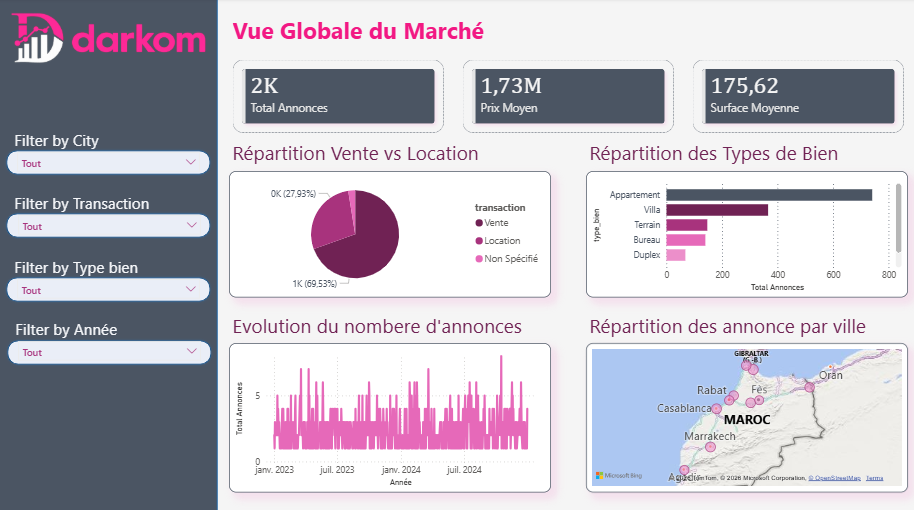

What the dashboard file says about the page in this screenshot:
{"tool":"powerbi","page":{"name":"vue globale du marché","canvas":[1280,720],"ordinal":0},"visuals":[{"type":"shape","box":[0,0,1280,719.4],"z":0},{"type":"shape","box":[0,0,304,720],"z":1000},{"type":"image","box":[0,0,304,112],"z":2000},{"type":"textbox","title":"titel","box":[320,16,688,64],"z":3000},{"type":"cardVisual","title":"averege price per m² (card)","fields":{"Data":["bi_schema fact_annonces.Total Annonces"]},"box":[320,80,304,112],"z":4000},{"type":"cardVisual","title":"averege price per m² (card)","fields":{"Data":["bi_schema fact_annonces.Surface Moyenne"]},"box":[960,80,304,112],"z":5000},{"type":"cardVisual","title":"averege price per m² (card)","fields":{"Data":["bi_schema fact_annonces.Prix Moyen"]},"box":[640,80,304,112],"z":6000},{"type":"pieChart","fields":{"Category":["bi_schema dim_bien.transaction"],"Y":["bi_schema fact_annonces.Total Annonces"]},"box":[320,240,448,176],"z":7000},{"type":"barChart","fields":{"Category":["bi_schema dim_bien.type_bien"],"Y":["bi_schema fact_annonces.Total Annonces"]},"box":[816,240,448,176],"z":8000},{"type":"lineChart","fields":{"Category":["bi_schema dim_date.date_publication.Variation.Hiérarchie de dates.Année","bi_schema dim_date.date_publication.Variation.Hiérarchie de dates.Trimestre","bi_schema dim_date.date_publication.Variation.Hiérarchie de dates.Mois","bi_schema dim_date.date_publication.Variation.Hiérarchie de dates.Jour"],"Y":["bi_schema fact_annonces.Total Annonces"]},"box":[320,480,448,208],"z":9000},{"type":"shape","box":[6.9,209.1,290.2,40.2],"z":10000},{"type":"slicer","fields":{"Values":["bi_schema dim_localisation.ville"]},"box":[15.6,204.8,273.9,40.6],"z":11000},{"type":"map","fields":{"Size":["bi_schema fact_annonces.Total Annonces"],"Category":["bi_schema dim_localisation.ville"]},"box":[816,480,448,208],"z":12000},{"type":"textbox","title":"titel","box":[16.2,178.4,272,48],"z":13000},{"type":"shape","box":[7.5,296.5,290.2,40.2],"z":14000},{"type":"slicer","fields":{"Values":["bi_schema dim_bien.transaction"]},"box":[16.2,292.1,273.9,40.6],"z":15000},{"type":"textbox","title":"titel","box":[16.9,265.7,272,48],"z":16000},{"type":"shape","box":[7.3,385.9,290.2,40.2],"z":17000},{"type":"slicer","fields":{"Values":["bi_schema dim_bien.type_bien"]},"box":[15.9,381.5,273.9,40.6],"z":18000},{"type":"textbox","title":"titel","box":[16.6,355.1,272,48],"z":19000},{"type":"shape","box":[8.4,472.5,290.2,40.2],"z":20000},{"type":"slicer","fields":{"Values":["bi_schema dim_date.date_publication.Variation.Hiérarchie de dates.Année"]},"box":[17.1,468.1,273.9,40.6],"z":21000},{"type":"textbox","title":"titel","box":[17.7,441.7,272,48],"z":22000},{"type":"textbox","title":"titel","box":[320,192,448,48],"z":23000},{"type":"textbox","title":"titel","box":[816,192,448,48],"z":24000},{"type":"textbox","title":"titel","box":[320,432,448,48],"z":25000},{"type":"textbox","title":"titel","box":[816,432,432,48],"z":26000}]}

Visuals, with their boxes in screenshot pixels (x1, y1, x2, y2), scaled from the page's 1280x720 canvas onto the 914x510 screenshot:
shape: (left=0, top=0, right=913, bottom=509)
shape: (left=0, top=0, right=217, bottom=509)
image: (left=0, top=0, right=217, bottom=79)
"titel" textbox: (left=228, top=11, right=720, bottom=57)
"averege price per m² (card)" cardVisual: (left=228, top=57, right=446, bottom=136)
"averege price per m² (card)" cardVisual: (left=686, top=57, right=903, bottom=136)
"averege price per m² (card)" cardVisual: (left=457, top=57, right=674, bottom=136)
pieChart - bi_schema dim_bien.transaction x bi_schema fact_annonces.Total Annonces: (left=228, top=170, right=548, bottom=295)
barChart - bi_schema dim_bien.type_bien x bi_schema fact_annonces.Total Annonces: (left=583, top=170, right=903, bottom=295)
lineChart - bi_schema dim_date.date_publication.Variation.Hiérarchie de dates.Année x bi_schema dim_date.date_publication.Variation.Hiérarchie de dates.Trimestre: (left=228, top=340, right=548, bottom=487)
shape: (left=5, top=148, right=212, bottom=177)
slicer - bi_schema dim_localisation.ville: (left=11, top=145, right=207, bottom=174)
map - bi_schema fact_annonces.Total Annonces x bi_schema dim_localisation.ville: (left=583, top=340, right=903, bottom=487)
"titel" textbox: (left=12, top=126, right=206, bottom=160)
shape: (left=5, top=210, right=213, bottom=238)
slicer - bi_schema dim_bien.transaction: (left=12, top=207, right=207, bottom=236)
"titel" textbox: (left=12, top=188, right=206, bottom=222)
shape: (left=5, top=273, right=212, bottom=302)
slicer - bi_schema dim_bien.type_bien: (left=11, top=270, right=207, bottom=299)
"titel" textbox: (left=12, top=252, right=206, bottom=286)
shape: (left=6, top=335, right=213, bottom=363)
slicer - bi_schema dim_date.date_publication.Variation.Hiérarchie de dates.Année: (left=12, top=332, right=208, bottom=360)
"titel" textbox: (left=13, top=313, right=207, bottom=347)
"titel" textbox: (left=228, top=136, right=548, bottom=170)
"titel" textbox: (left=583, top=136, right=903, bottom=170)
"titel" textbox: (left=228, top=306, right=548, bottom=340)
"titel" textbox: (left=583, top=306, right=891, bottom=340)
